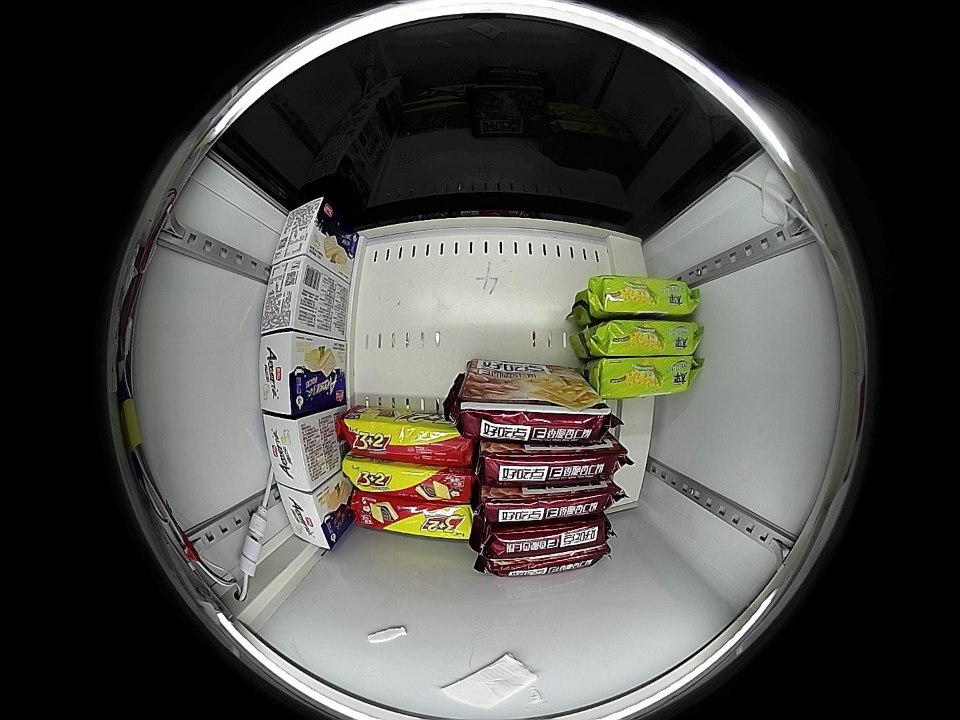3jia2: (342, 412, 469, 464), (343, 458, 473, 501), (354, 497, 473, 539)
haochidian: (458, 395, 613, 442), (479, 441, 623, 483), (479, 483, 617, 522), (479, 519, 613, 553), (475, 548, 614, 577)
meiniye: (263, 412, 331, 492), (260, 331, 322, 417), (261, 255, 326, 334), (276, 480, 342, 551), (272, 196, 338, 265)
taipingshuda: (586, 275, 699, 319), (592, 355, 700, 399), (592, 319, 703, 356)
